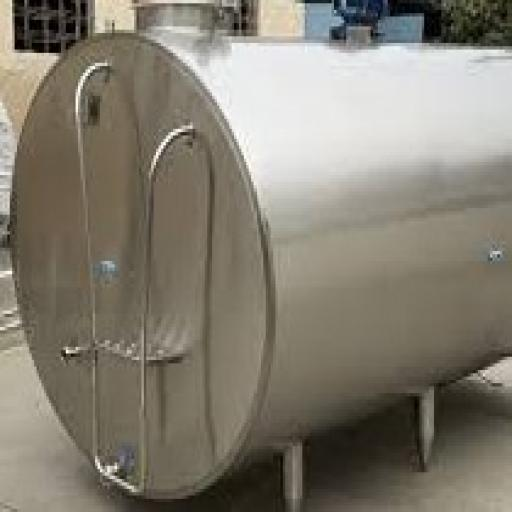silo: (10, 0, 510, 509)
